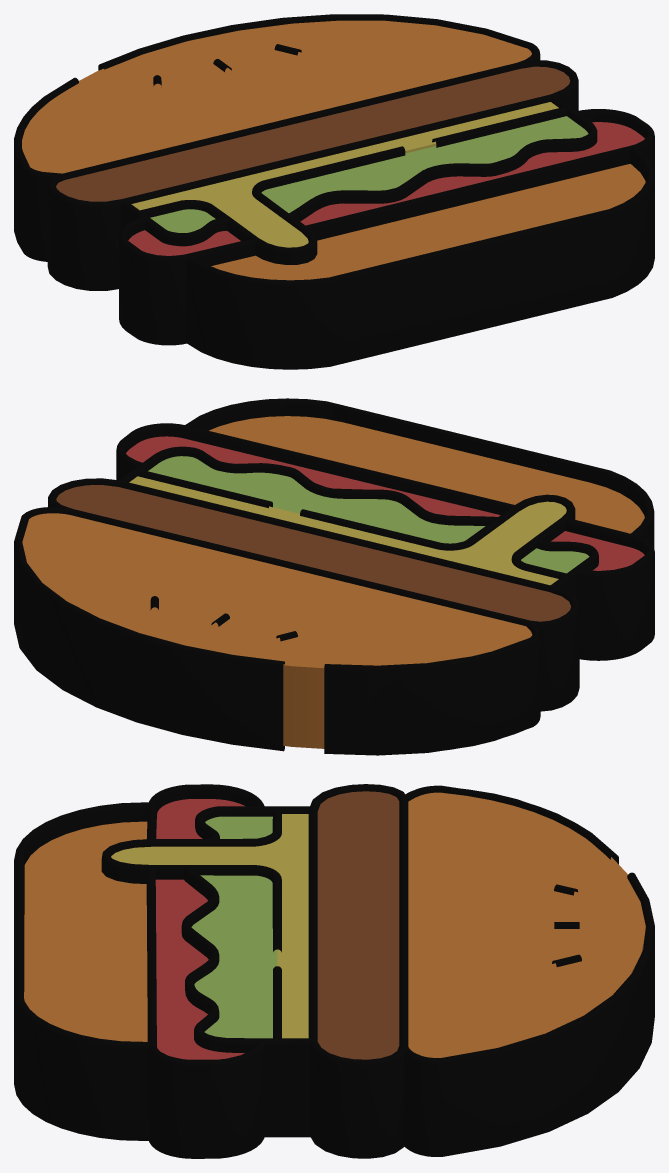
3 renders of one model, top to bottom at view 1: azimuth 30°, elevation 25°; view 2: azimuth 150°, elevation 25°; view 3: azimuth 270°, elevation 25°, orthographic. The views are drawn at different scales.
Visible parts, largest first — view 1: Curve.006, Curve.005, Curve.004, Curve, Curve.002, Curve.003, Curve.001; view 2: Curve.006, Curve.005, Curve.004, Curve, Curve.002, Curve.003, Curve.001; view 3: Curve.006, Curve.005, Curve, Curve.004, Curve.002, Curve.003, Curve.001.
Boxes of the visible parts, x1,y1,x2,y2 form: Curve.006: (14,14,654,369); Curve.005: (22,20,531,173); Curve.004: (56,66,570,201); Curve: (211,164,645,280); Curve.002: (150,116,588,232); Curve.003: (131,102,558,247); Curve.001: (128,122,644,255); Curve.006: (14,398,654,755); Curve.005: (22,513,532,748); Curve.004: (56,485,570,621); Curve: (209,416,644,533); Curve.002: (148,456,589,573); Curve.003: (129,476,566,585); Curve.001: (126,436,644,570); Curve.006: (14,784,654,1158); Curve.005: (408,792,645,1057); Curve: (24,821,147,1041); Curve.004: (317,791,399,1059); Curve.002: (191,816,277,1038); Curve.003: (111,814,308,1038); Curve.001: (155,799,245,1059).
Size of the model in its own units: 4.84 by 0.7943 by 4.69.
